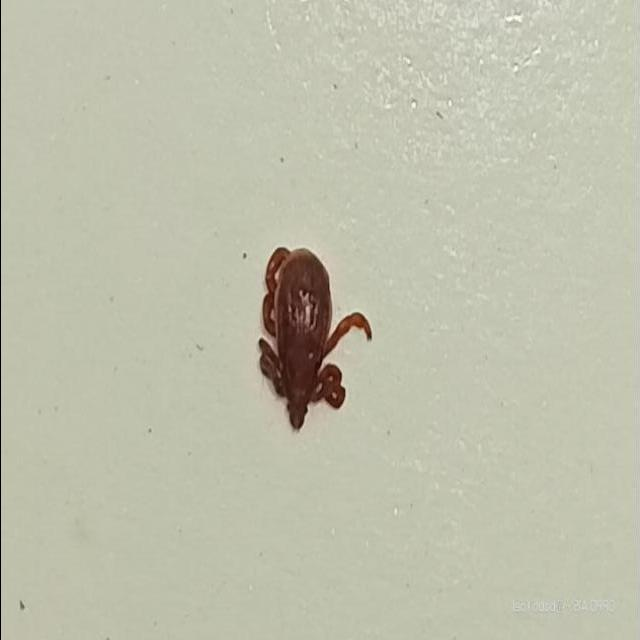Rhipicephalus Sanguineus-M: (256, 247, 373, 433)
